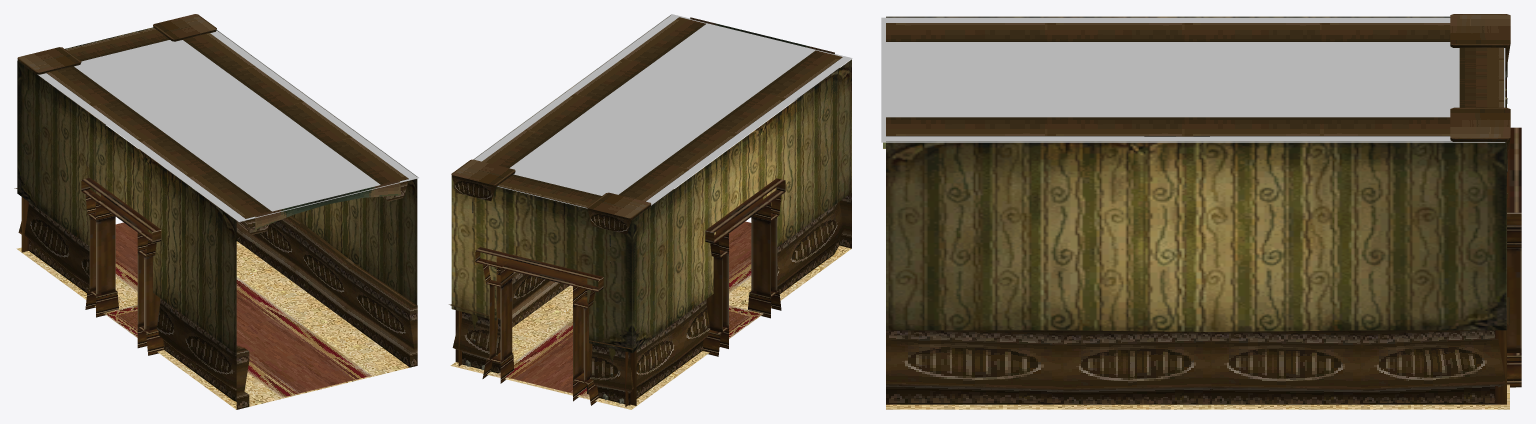
Rendered from hallway_1F_B.obj.
3 renders of one model, left to right at view 1: azimuth 30°, elevation 25°; view 2: azimuth 150°, elevation 25°; view 3: azimuth 270°, elevation 25°, orthographic. The views are drawn at different scales.
Parts seen in each view (by area): view 1: part11_texture9, part6_texture4, part2_texture1, part8_texture6, part7_texture5, part5_texture3, part1_texture0, part12_texture10; view 2: part6_texture4, part11_texture9, part2_texture1, part5_texture3, part7_texture5, part8_texture6, part12_texture10, part1_texture0; view 3: part6_texture4, part11_texture9, part2_texture1, part5_texture3, part7_texture5.
Boxes of the visible parts, <box> form: part11_texture9: <box>14,14,417,409</box>; part6_texture4: <box>17,27,417,353</box>; part2_texture1: <box>37,28,418,221</box>; part8_texture6: <box>115,222,371,397</box>; part7_texture5: <box>16,241,409,409</box>; part5_texture3: <box>21,111,164,355</box>; part1_texture0: <box>255,180,400,229</box>; part12_texture10: <box>103,304,137,337</box>; part6_texture4: <box>451,15,851,352</box>; part11_texture9: <box>449,17,851,405</box>; part2_texture1: <box>473,14,852,208</box>; part5_texture3: <box>455,178,785,406</box>; part7_texture5: <box>450,245,851,409</box>; part8_texture6: <box>497,221,751,396</box>; part12_texture10: <box>729,305,763,338</box>; part1_texture0: <box>690,17,834,54</box>; part6_texture4: <box>886,16,1506,331</box>; part11_texture9: <box>886,14,1510,404</box>; part2_texture1: <box>881,17,1505,142</box>; part5_texture3: <box>1495,78,1521,404</box>; part7_texture5: <box>886,384,1509,409</box>.
Size of the model in its own units: 2.07 by 1.99 by 4.23.
